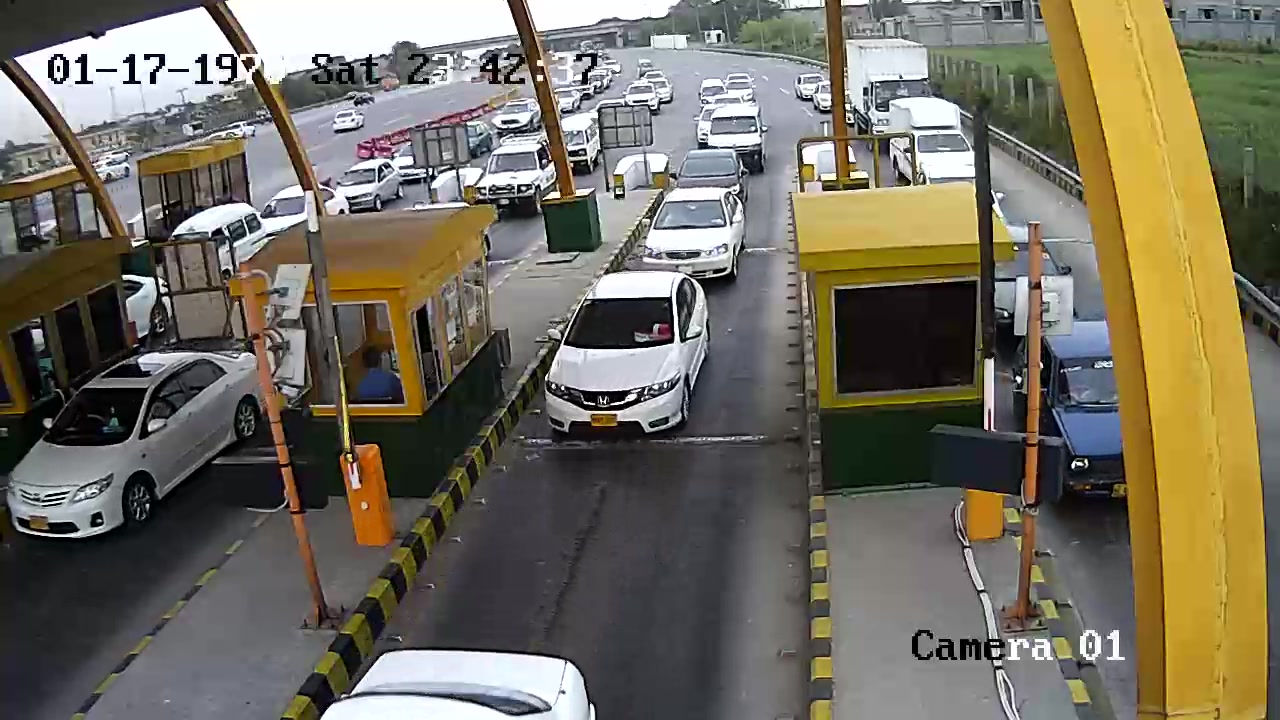F1: (523, 268, 725, 463)
